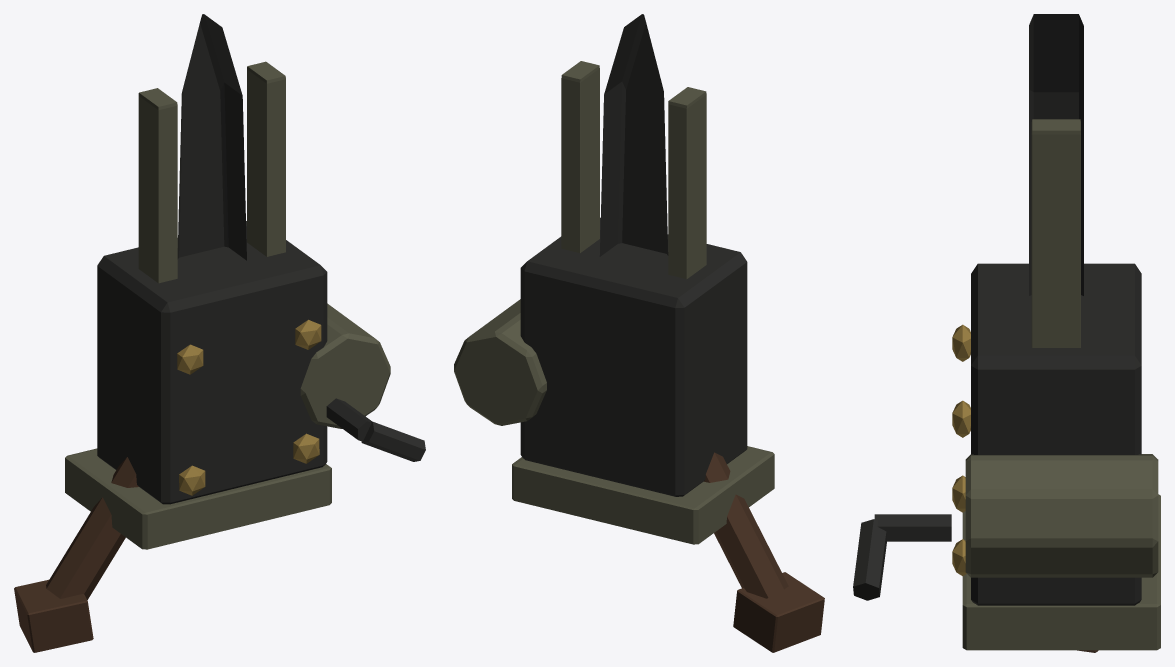
Rendered from pile_bunker.obj.
3 views of the same model, side by side, from view 1: azimuth 30°, elevation 25°; view 2: azimuth 150°, elevation 25°; view 3: azimuth 270°, elevation 25° (orthographic). The views are drawn at different scales.
Visible parts, largest first — view 1: MainHousing.001_wrought_iron, DriverSpike.001_wrought_iron, BackPlate.001_oxidized_bronze, RailL.001_oxidized_bronze, RailR.001_oxidized_bronze, SideChamber.001_oxidized_bronze, GripStem.001_dark_wood, GripHeel.001_dark_wood, CrankArm.001_wrought_iron, CrankAxle.001_wrought_iron, Bolt0.001_ritual_gold, Bolt1.001_ritual_gold (+2 smaller); view 2: MainHousing.001_wrought_iron, DriverSpike.001_wrought_iron, BackPlate.001_oxidized_bronze, SideChamber.001_oxidized_bronze, RailL.001_oxidized_bronze, RailR.001_oxidized_bronze, GripHeel.001_dark_wood, GripStem.001_dark_wood; view 3: MainHousing.001_wrought_iron, SideChamber.001_oxidized_bronze, RailR.001_oxidized_bronze, BackPlate.001_oxidized_bronze, DriverSpike.001_wrought_iron, CrankArm.001_wrought_iron, CrankAxle.001_wrought_iron, Bolt3.001_ritual_gold, Bolt2.001_ritual_gold.
Part boxes in pixels (<box>): MainHousing.001_wrought_iron: <box>97,221,327,504</box>; DriverSpike.001_wrought_iron: <box>177,14,246,260</box>; BackPlate.001_oxidized_bronze: <box>65,448,331,549</box>; RailL.001_oxidized_bronze: <box>138,88,177,283</box>; RailR.001_oxidized_bronze: <box>247,61,285,256</box>; SideChamber.001_oxidized_bronze: <box>300,303,390,428</box>; GripStem.001_dark_wood: <box>46,457,138,599</box>; GripHeel.001_dark_wood: <box>14,579,93,652</box>; CrankArm.001_wrought_iron: <box>361,421,425,461</box>; CrankAxle.001_wrought_iron: <box>326,398,371,441</box>; Bolt0.001_ritual_gold: <box>179,465,205,495</box>; Bolt1.001_ritual_gold: <box>293,433,319,463</box>; MainHousing.001_wrought_iron: <box>520,218,747,496</box>; DriverSpike.001_wrought_iron: <box>599,14,668,256</box>; BackPlate.001_oxidized_bronze: <box>512,446,774,544</box>; SideChamber.001_oxidized_bronze: <box>454,299,546,425</box>; RailL.001_oxidized_bronze: <box>668,87,706,279</box>; RailR.001_oxidized_bronze: <box>561,61,599,252</box>; GripHeel.001_dark_wood: <box>733,572,824,652</box>; GripStem.001_dark_wood: <box>704,452,788,598</box>; MainHousing.001_wrought_iron: <box>971,263,1141,605</box>; SideChamber.001_oxidized_bronze: <box>965,454,1158,577</box>; RailR.001_oxidized_bronze: <box>1031,119,1080,347</box>; BackPlate.001_oxidized_bronze: <box>962,494,1160,650</box>; DriverSpike.001_wrought_iron: <box>1029,14,1083,295</box>; CrankArm.001_wrought_iron: <box>853,519,886,600</box>; CrankAxle.001_wrought_iron: <box>874,514,951,541</box>; Bolt3.001_ritual_gold: <box>952,400,970,437</box>; Bolt2.001_ritual_gold: <box>952,324,970,361</box>.
Bounding box in the file's own units: 1.72 × 2.88 × 1.12.
